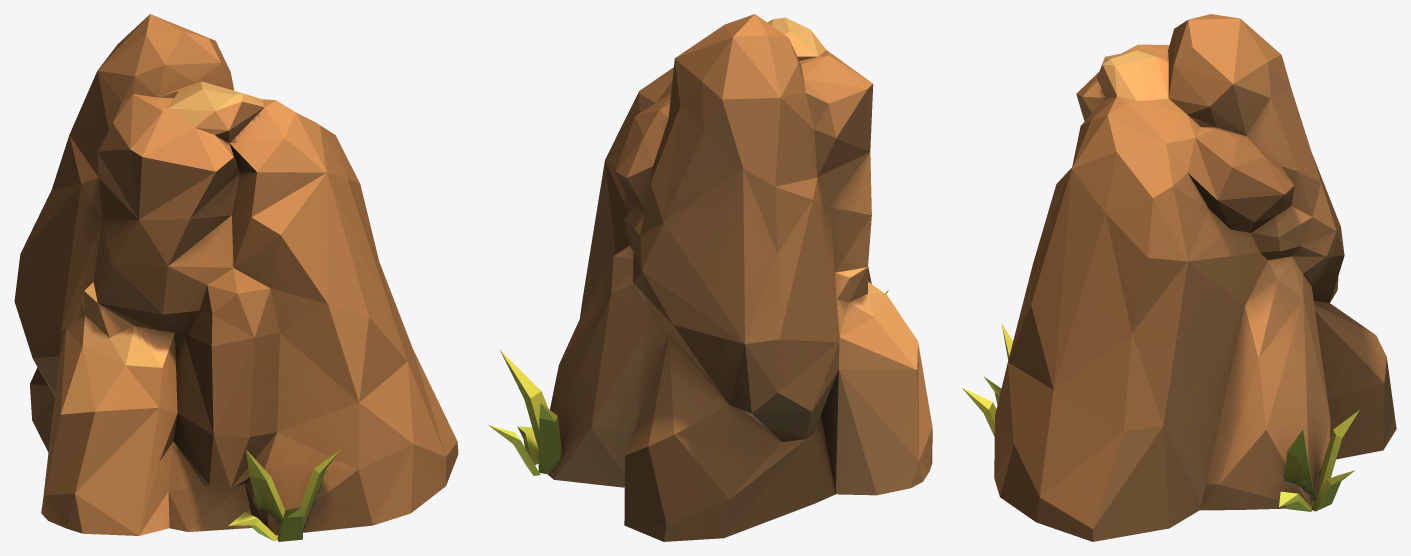
The model's file is rock.glb.
The picture shows the model from 3 angles, left to right: view 1: azimuth 30°, elevation 25°; view 2: azimuth 150°, elevation 25°; view 3: azimuth 270°, elevation 25°; orthographic projection. The views are drawn at different scales.
Parts seen in each view (by area): view 1: rock; view 2: rock; view 3: rock.
Part boxes in pixels (bbox=[...]): rock: bbox=[14, 14, 458, 541]; rock: bbox=[488, 14, 932, 541]; rock: bbox=[962, 14, 1396, 541].
Bounding box in the file's own units: 1.4 × 1.57 × 1.48.
1 material, 1 textured.
